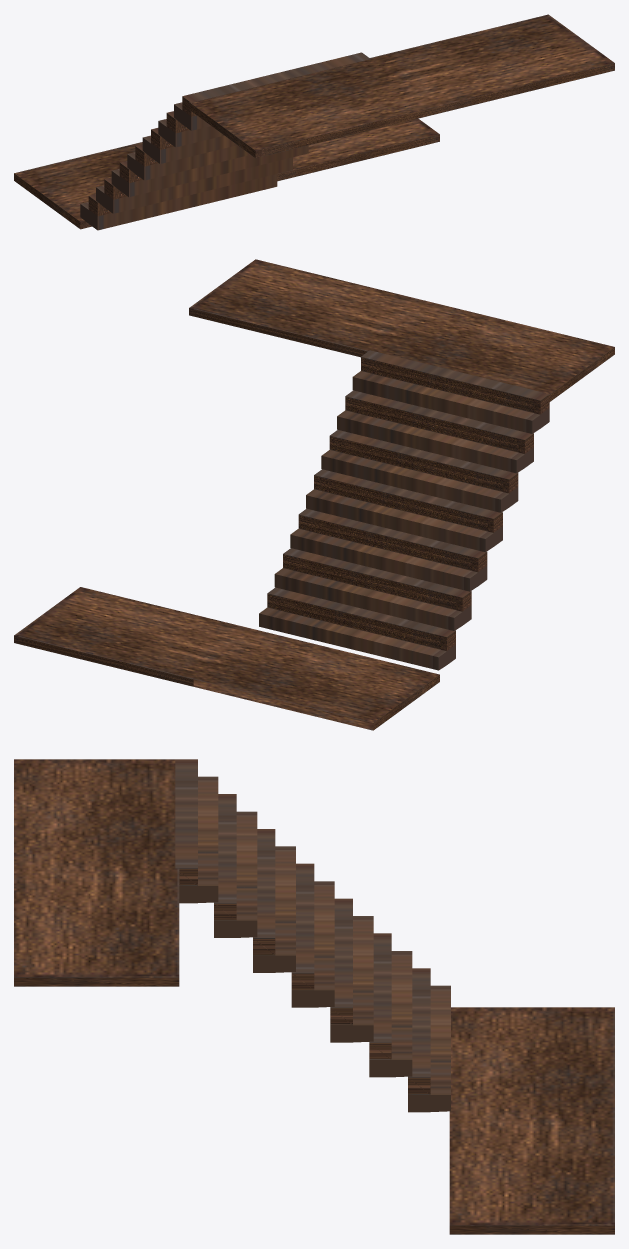
Rendered from Kaidan.fbx.
3 renders of one model, top to bottom at view 1: azimuth 30°, elevation 25°; view 2: azimuth 150°, elevation 25°; view 3: azimuth 270°, elevation 25°, orthographic. The views are drawn at different scales.
Parts seen in each view (by area): view 1: 立方体.025; view 2: 立方体.025; view 3: 立方体.025.
Part boxes in pixels (x1,y1,x2,y2): 立方体.025: (14,14,614,230); 立方体.025: (14,259,614,730); 立方体.025: (14,759,614,1234).
Bounding box in the file's own units: 776 × 427 × 903.
Materials: 1 (1 with a texture image).
